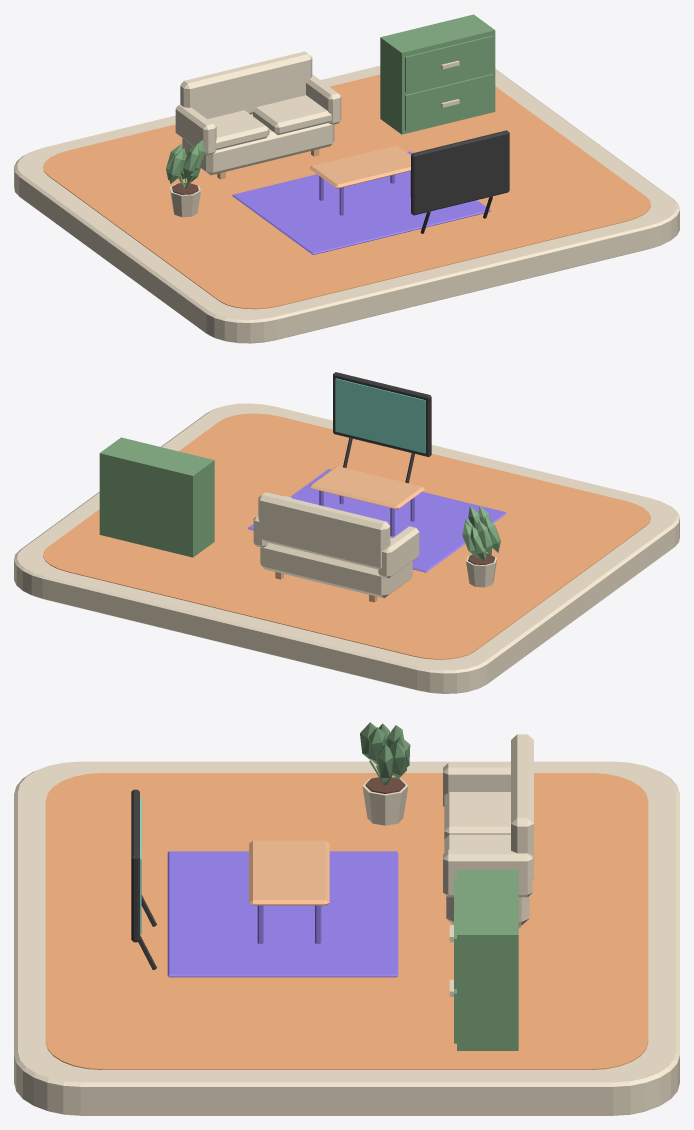
File: room.fbx
3 views of the same model, one above another, from view 1: azimuth 30°, elevation 25°; view 2: azimuth 150°, elevation 25°; view 3: azimuth 270°, elevation 25° (orthographic). The views are drawn at different scales.
Visible parts, largest first — view 1: COM-02 Floor Surface, COM-01 Rounded Base Direct, Cabinet, Rug, TV frame, Back, Base, Rounded table top, Pot, Seat cushion.001, Seat cushion, Arm (+1 smaller); view 2: COM-02 Floor Surface, COM-01 Rounded Base Direct, Cabinet, Back, Rug, Screen, Base, Rounded table top, Pot, TV frame, Arm; view 3: COM-02 Floor Surface, COM-01 Rounded Base Direct, Rug, Cabinet, Rounded table top, Pot, Seat cushion, Back, Arm.001, Arm, TV frame, Seat cushion.001.
Boxes of the visible parts, left/top/right/bottom form: COM-02 Floor Surface: left=43, top=74, right=650, bottom=309; COM-01 Rounded Base Direct: left=14, top=65, right=679, bottom=343; Cabinet: left=380, top=14, right=495, bottom=134; Rug: left=232, top=151, right=490, bottom=254; TV frame: left=411, top=130, right=509, bottom=215; Back: left=180, top=51, right=312, bottom=118; Base: left=182, top=114, right=334, bottom=175; Rounded table top: left=309, top=145, right=410, bottom=188; Pot: left=166, top=140, right=205, bottom=217; Seat cushion.001: left=253, top=95, right=331, bottom=134; Seat cushion: left=207, top=110, right=269, bottom=149; Arm: left=175, top=104, right=216, bottom=155; COM-02 Floor Surface: left=43, top=413, right=650, bottom=659; COM-01 Rounded Base Direct: left=14, top=403, right=679, bottom=693; Cabinet: left=99, top=437, right=214, bottom=557; Back: left=258, top=492, right=390, bottom=569; Rug: left=248, top=469, right=506, bottom=572; Screen: left=335, top=378, right=425, bottom=453; Base: left=260, top=543, right=412, bottom=598; Rounded table top: left=309, top=466, right=424, bottom=509; Pot: left=462, top=505, right=500, bottom=587; TV frame: left=333, top=372, right=431, bottom=456; Arm: left=378, top=526, right=419, bottom=578; COM-02 Floor Surface: left=45, top=773, right=648, bottom=1069; COM-01 Rounded Base Direct: left=14, top=761, right=679, bottom=1115; Rug: left=167, top=851, right=398, bottom=977; Cabinet: left=449, top=870, right=518, bottom=1050; Rounded table top: left=249, top=840, right=329, bottom=905; Pot: left=360, top=722, right=410, bottom=825; Seat cushion: left=444, top=792, right=510, bottom=838; Back: left=511, top=734, right=533, bottom=879; Arm.001: left=443, top=849, right=532, bottom=897; Arm: left=443, top=763, right=510, bottom=806; TV frame: left=131, top=789, right=139, bottom=942; Seat cushion.001: left=444, top=834, right=510, bottom=852.
Bounding box in the file's own units: 600 × 138 × 520.
